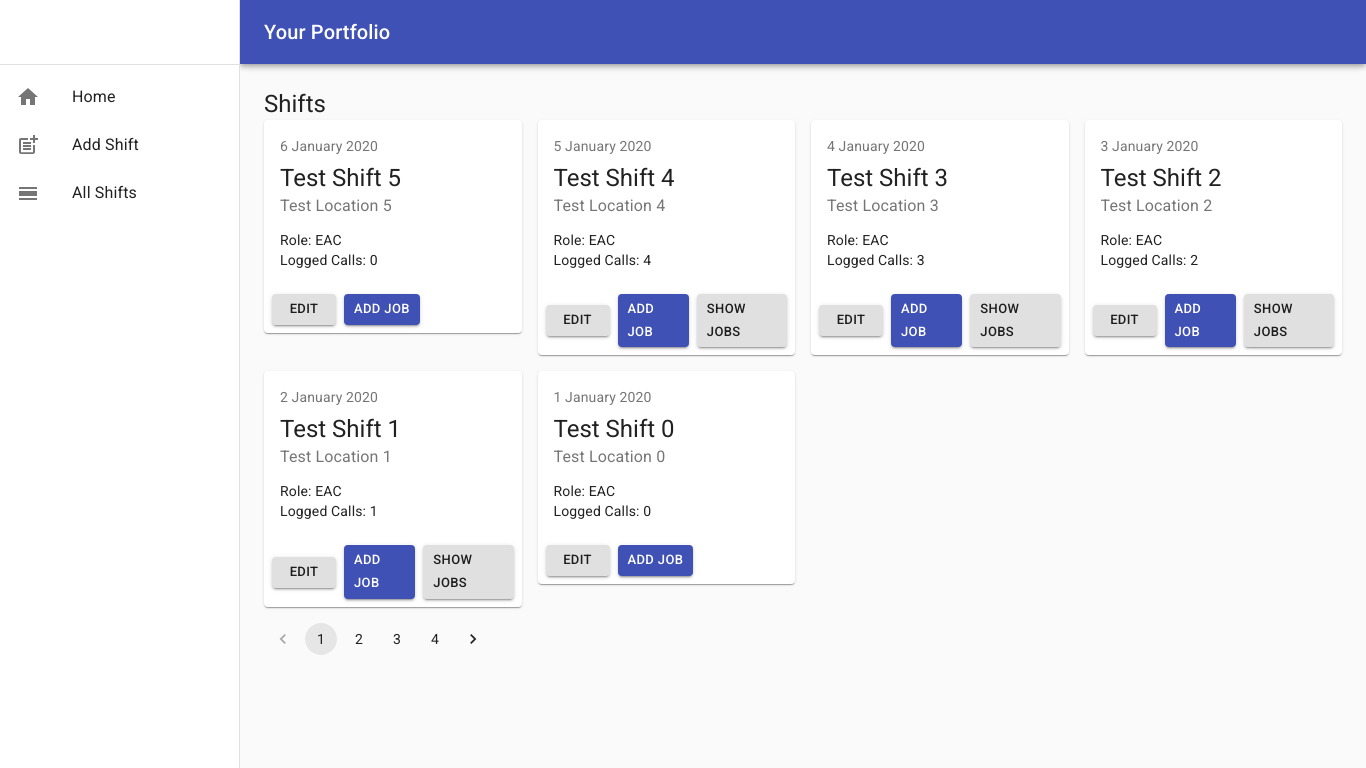
Scenario: loads a new page if pagination clicked
The width and height of the screenshot is (1366, 768).
Expected: the heading "Test Shift 1" is shown, [280,415,401,443]
Click the button named "Go to next page" at (473, 639), box [457,623,489,655]
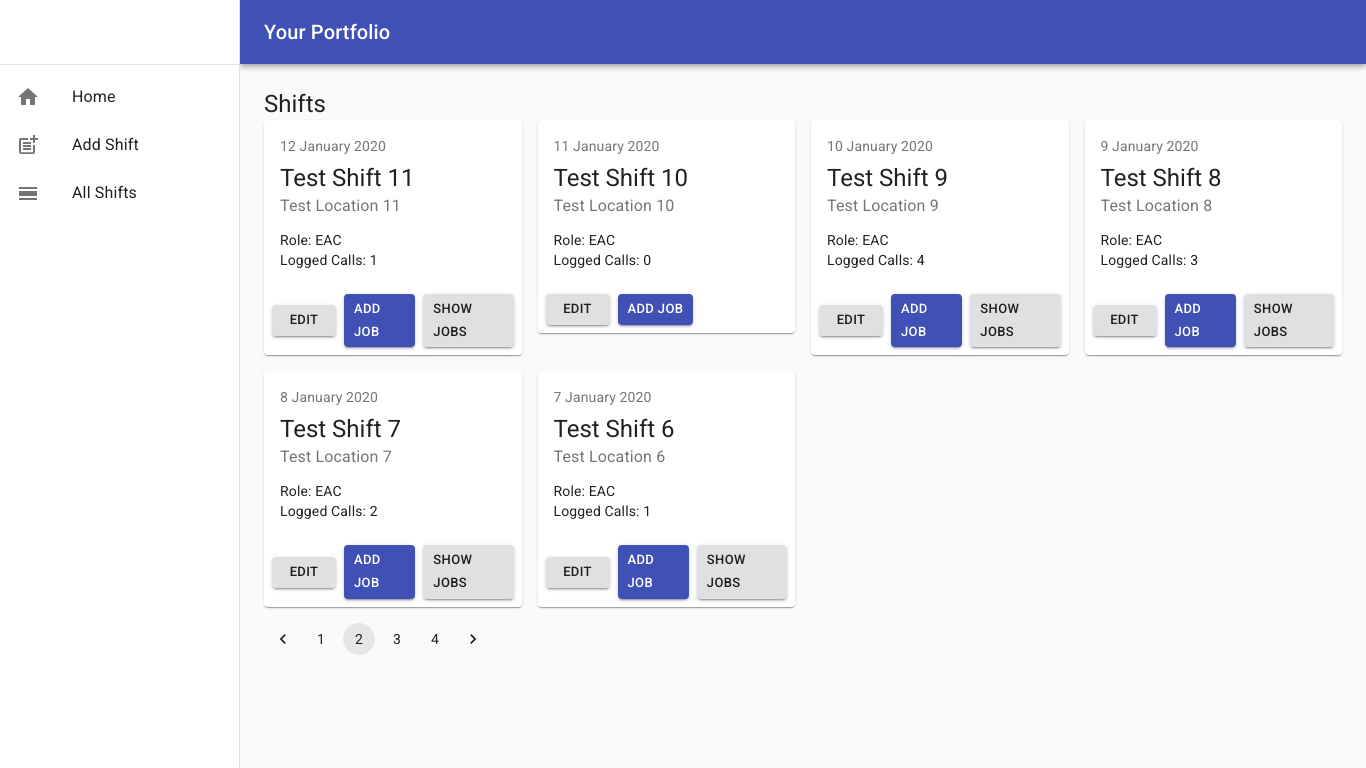
Expected: the heading "Test Shift 7" is shown, [280,415,401,443]
